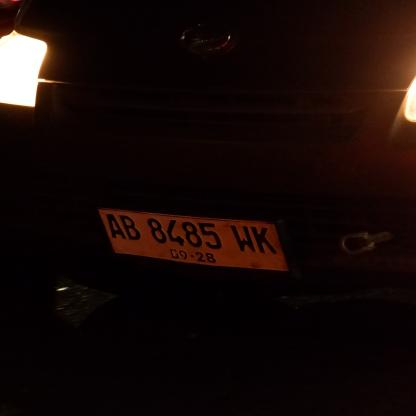Plat-Nomor: (93, 204, 308, 276)
